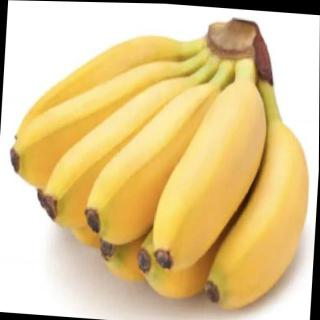banana: (7, 51, 183, 203), (41, 66, 197, 235), (149, 74, 271, 278), (83, 72, 221, 250), (205, 114, 315, 316)
